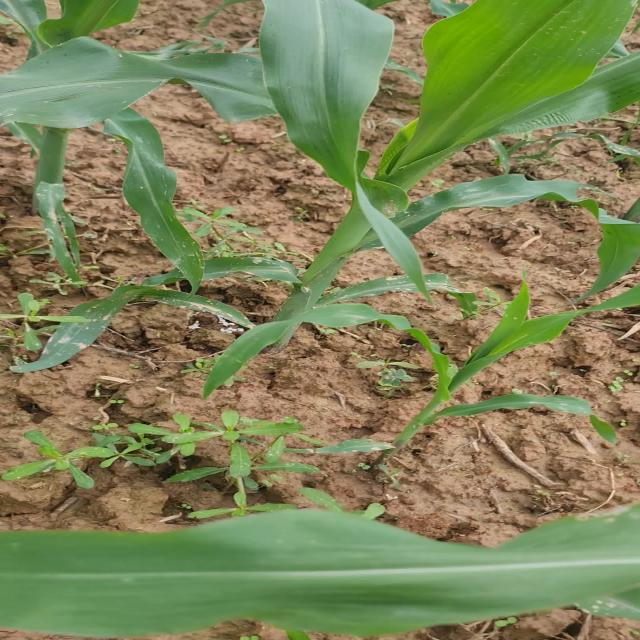maize: (0, 0, 359, 367), (290, 10, 640, 307), (29, 511, 640, 640), (397, 308, 533, 477)
weed: (21, 420, 287, 498)
